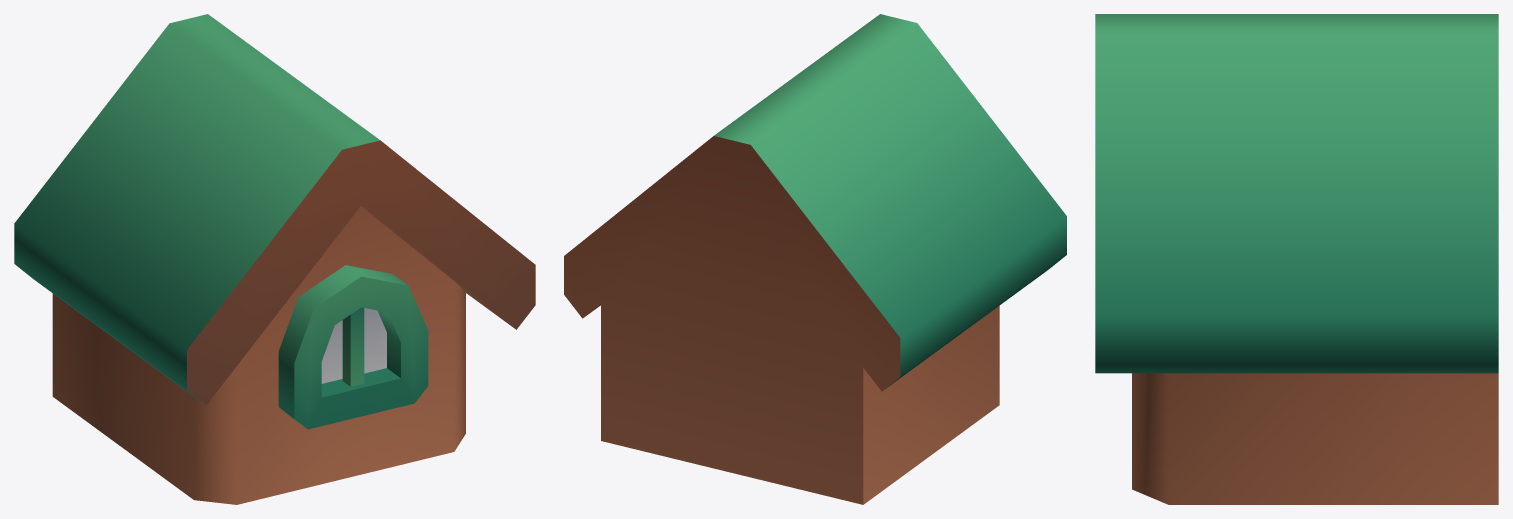
Rendered from cabin-roof-dormer.glb.
3 renders of one model, left to right at view 1: azimuth 30°, elevation 25°; view 2: azimuth 150°, elevation 25°; view 3: azimuth 270°, elevation 25°, orthographic. The views are drawn at different scales.
Parts seen in each view (by area): view 1: cabin-roof-dormer; view 2: cabin-roof-dormer; view 3: cabin-roof-dormer.
Boxes of the visible parts, x1,y1,x2,y2 form: cabin-roof-dormer: [14, 14, 535, 504]; cabin-roof-dormer: [564, 14, 1066, 504]; cabin-roof-dormer: [1095, 14, 1498, 504].
Size of the model in its own units: 1.28 by 1.21 by 1.1.
